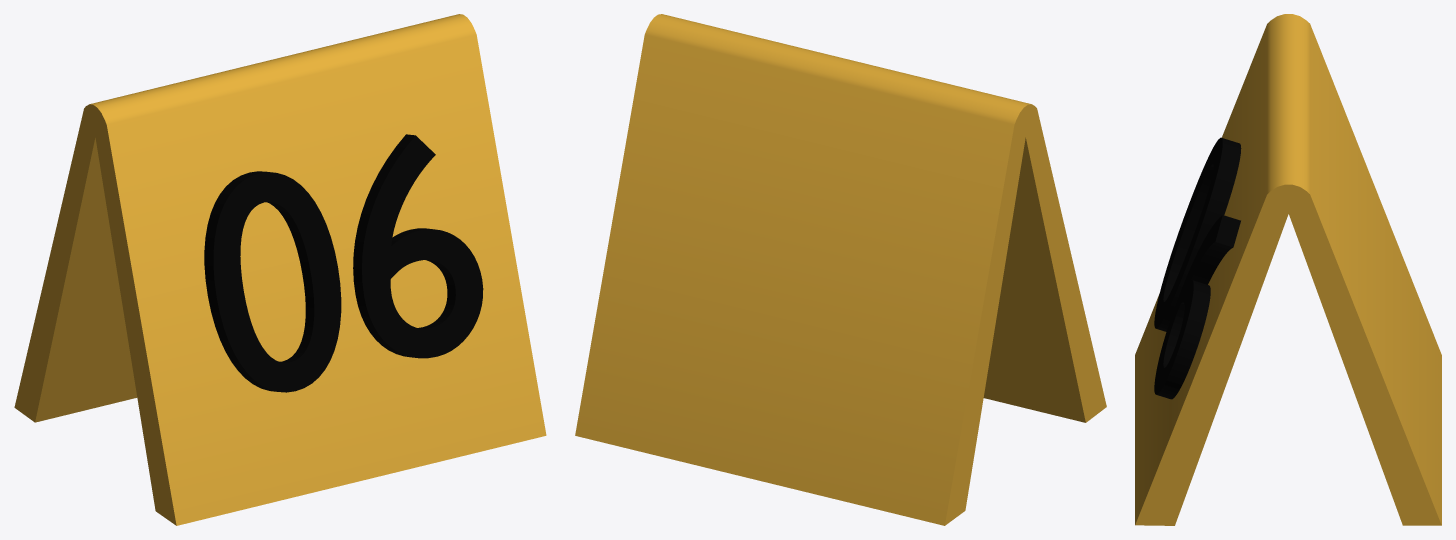
3 renders of one model, left to right at view 1: azimuth 30°, elevation 25°; view 2: azimuth 150°, elevation 25°; view 3: azimuth 270°, elevation 25°, orthographic. The views are drawn at different scales.
Parts seen in each view (by area): view 1: Bordje, Text.005; view 2: Bordje; view 3: Bordje, Text.005.
Part boxes in pixels (x1,y1,x2,y2): Bordje: (14,14,546,525); Text.005: (204,134,483,392); Bordje: (575,14,1106,525); Bordje: (1135,14,1441,525); Text.005: (1154,137,1241,399).
Bounding box in the file's own units: 342 × 319 × 260.
